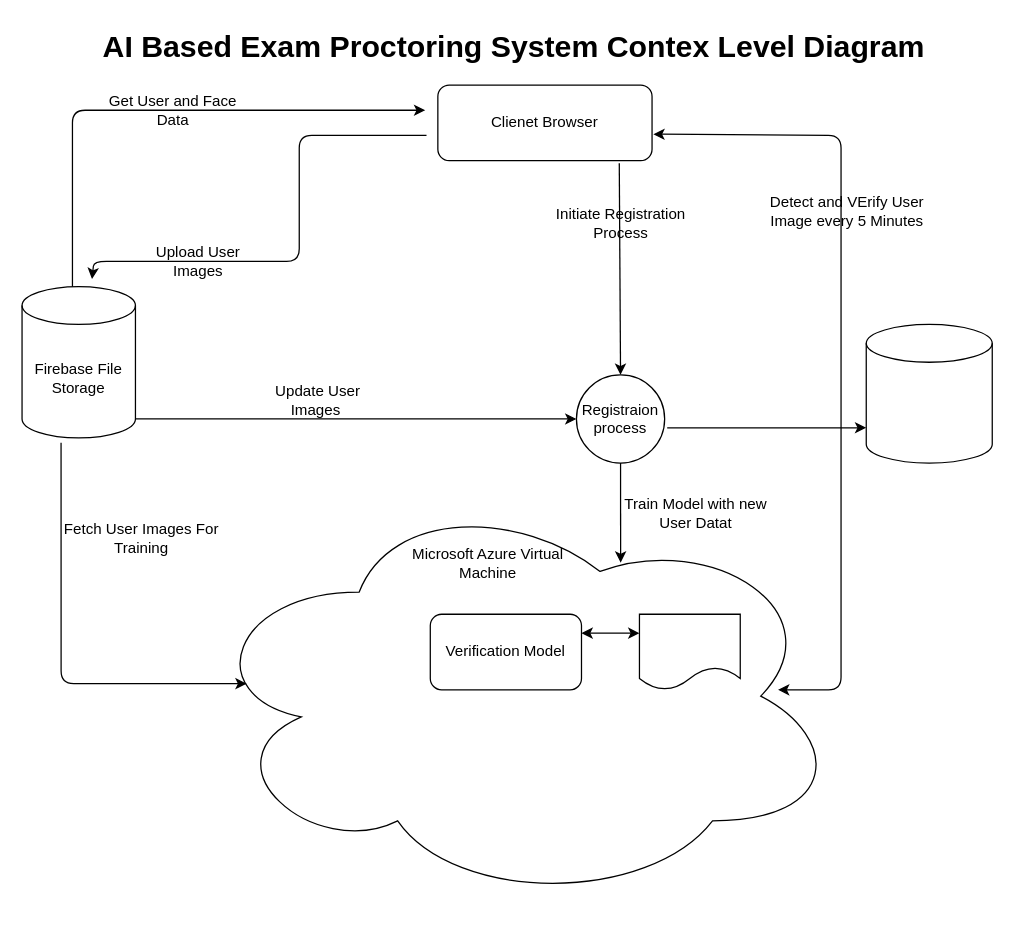
Image size: 1014x926. Some labels were removed from this diagram. Here are the shapes that lost their labels. From the top down, the centre of each, then its label:
At (928,393): "Firebase Database".
At (689,651): "Model Store".
